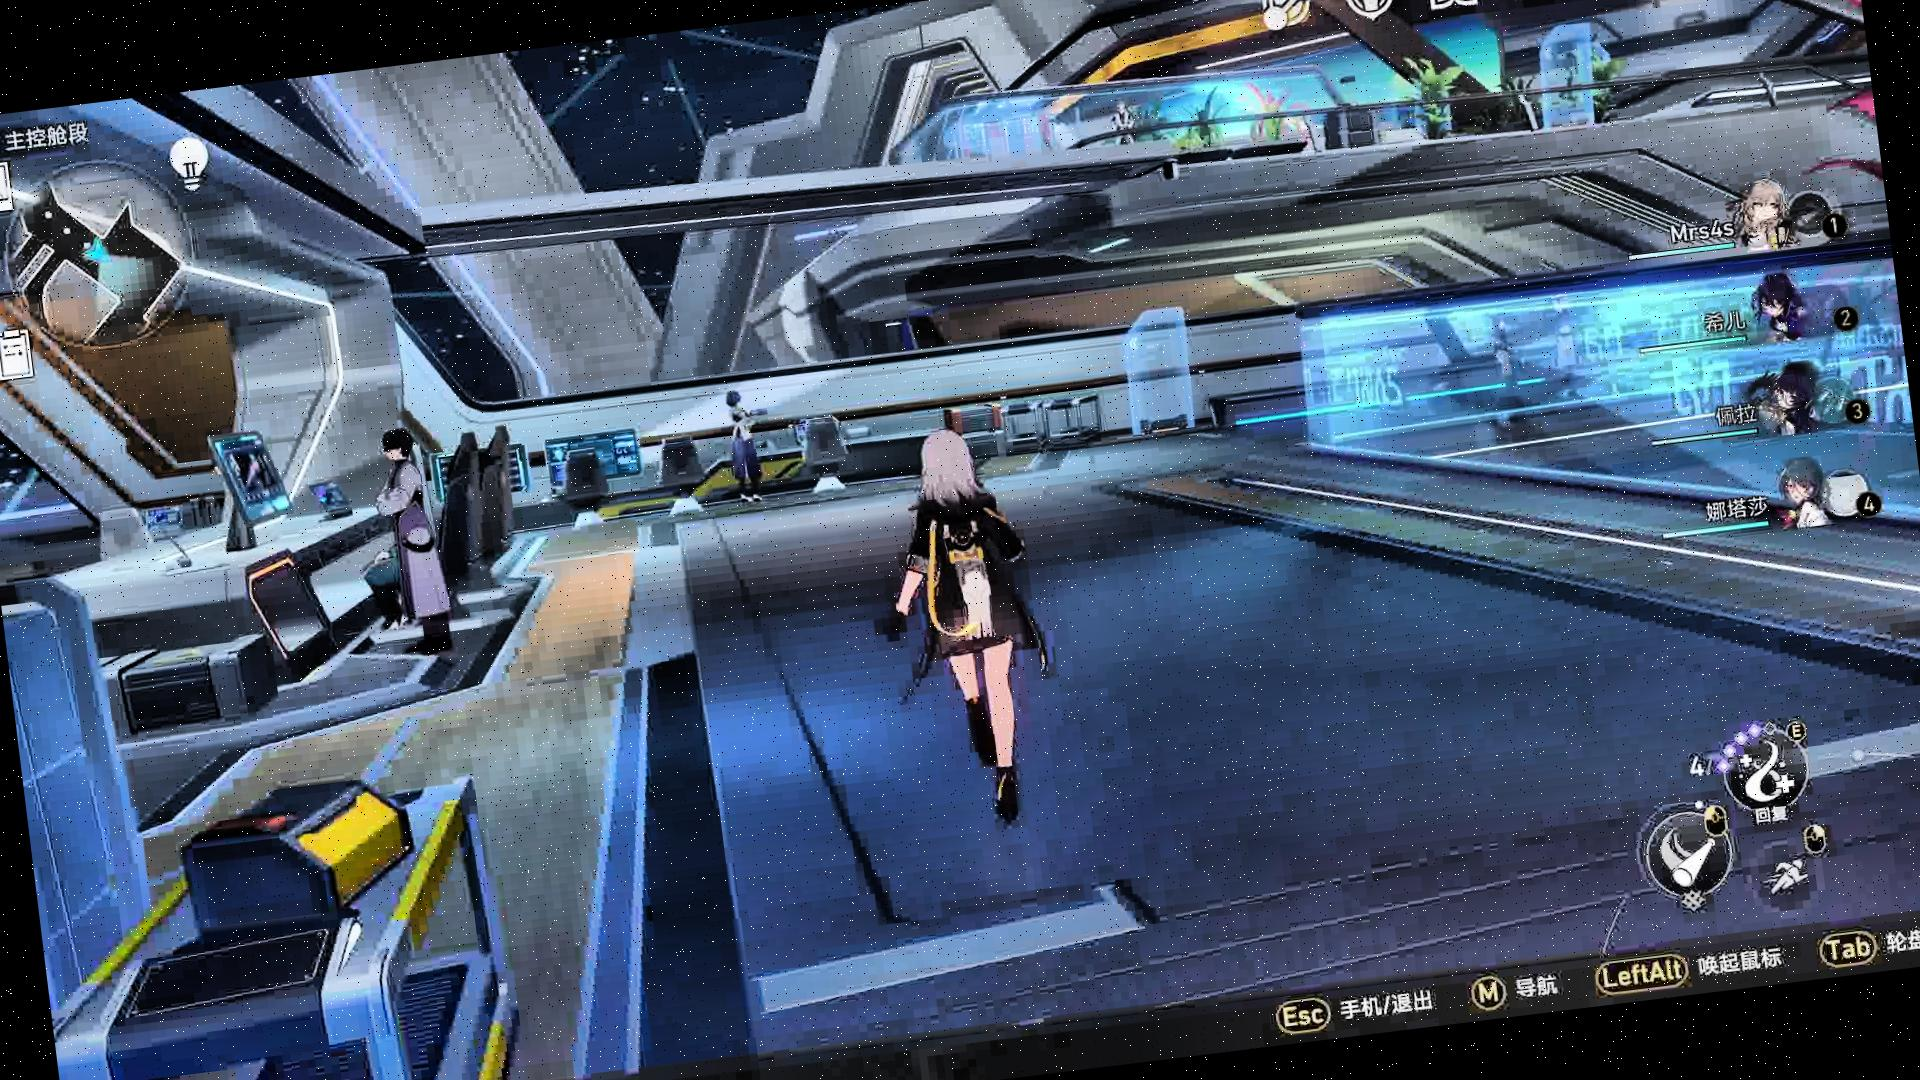Self: (862, 417, 1062, 843)
TeamMate: (357, 422, 468, 662), (712, 378, 775, 509)
